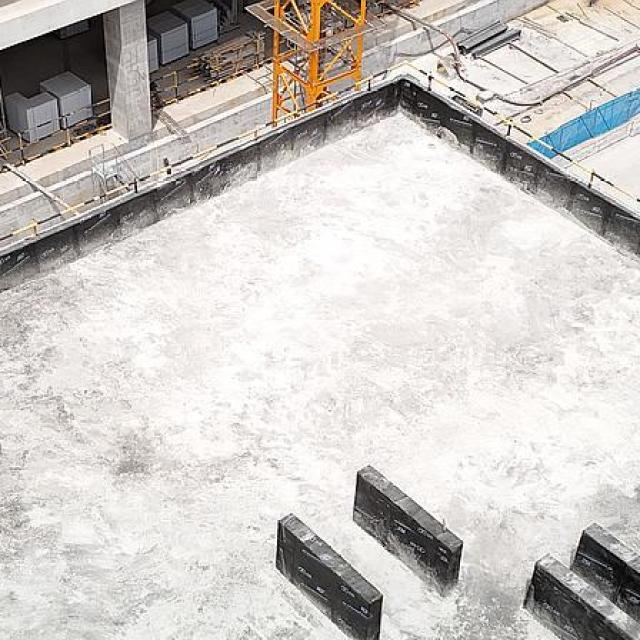edge_guardrail: (0, 59, 640, 247), (149, 34, 272, 110), (0, 98, 114, 172)
